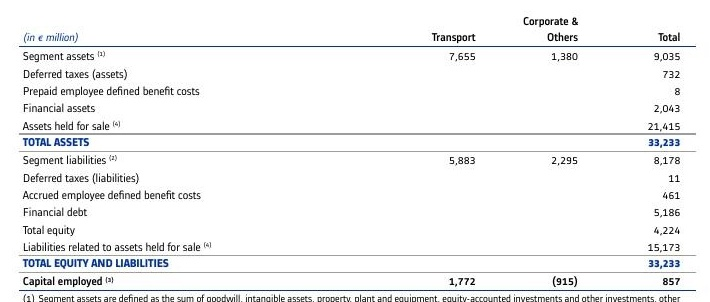table: (0, 0, 710, 302)
